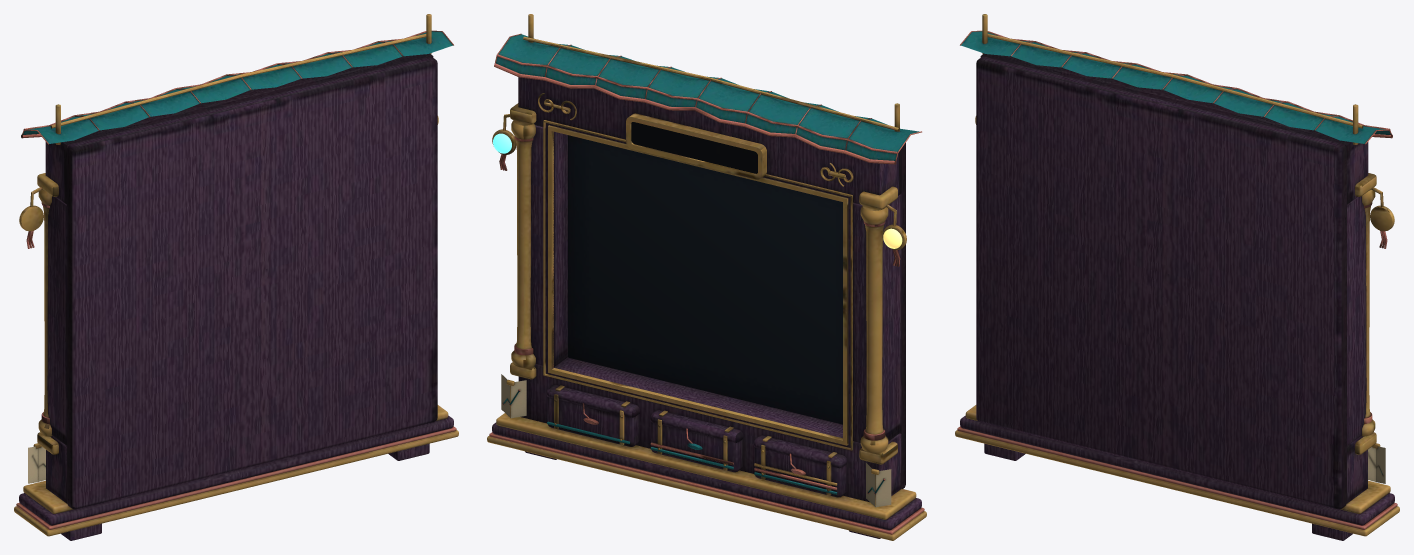
3 views of the same model, side by side, from view 1: azimuth 30°, elevation 25°; view 2: azimuth 150°, elevation 25°; view 3: azimuth 330°, elevation 25° (orthographic).
Parts seen in each view (by area): view 1: Violet_cedar, Route_brass, Teal_cloth, Coral_cloth, Route_paper; view 2: Dark_inset, Violet_cedar, Route_brass, Teal_cloth, Coral_cloth, Route_paper; view 3: Violet_cedar, Route_brass, Teal_cloth, Coral_cloth, Route_paper.
Part boxes in pixels (<box>): Violet_cedar: <box>19,53,453,540</box>; Route_brass: <box>14,14,458,536</box>; Teal_cloth: <box>23,31,452,466</box>; Coral_cloth: <box>16,30,456,529</box>; Route_paper: <box>28,446,45,483</box>; Dark_inset: <box>568,122,842,424</box>; Violet_cedar: <box>492,77,921,538</box>; Route_brass: <box>487,14,926,540</box>; Teal_cloth: <box>496,34,919,494</box>; Coral_cloth: <box>489,33,924,534</box>; Route_paper: <box>501,374,891,507</box>; Violet_cedar: <box>960,53,1394,540</box>; Route_brass: <box>955,14,1399,536</box>; Teal_cloth: <box>961,31,1390,474</box>; Coral_cloth: <box>957,30,1397,529</box>; Route_paper: <box>1368,446,1385,483</box>.
Bounding box in the file's own units: 9.7 × 9.6 × 1.49.
8 materials, 6 textured.
